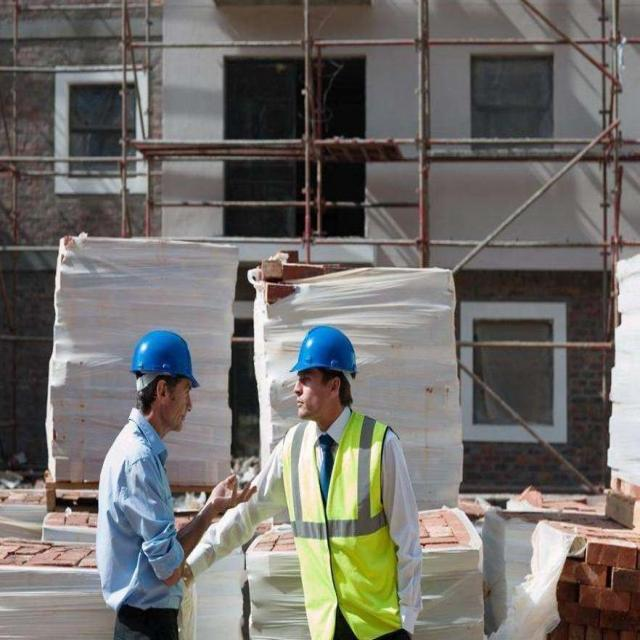Reflective-Jacket: (278, 413, 408, 634)
Safety-Helmet: (126, 322, 204, 392), (286, 318, 361, 380)
